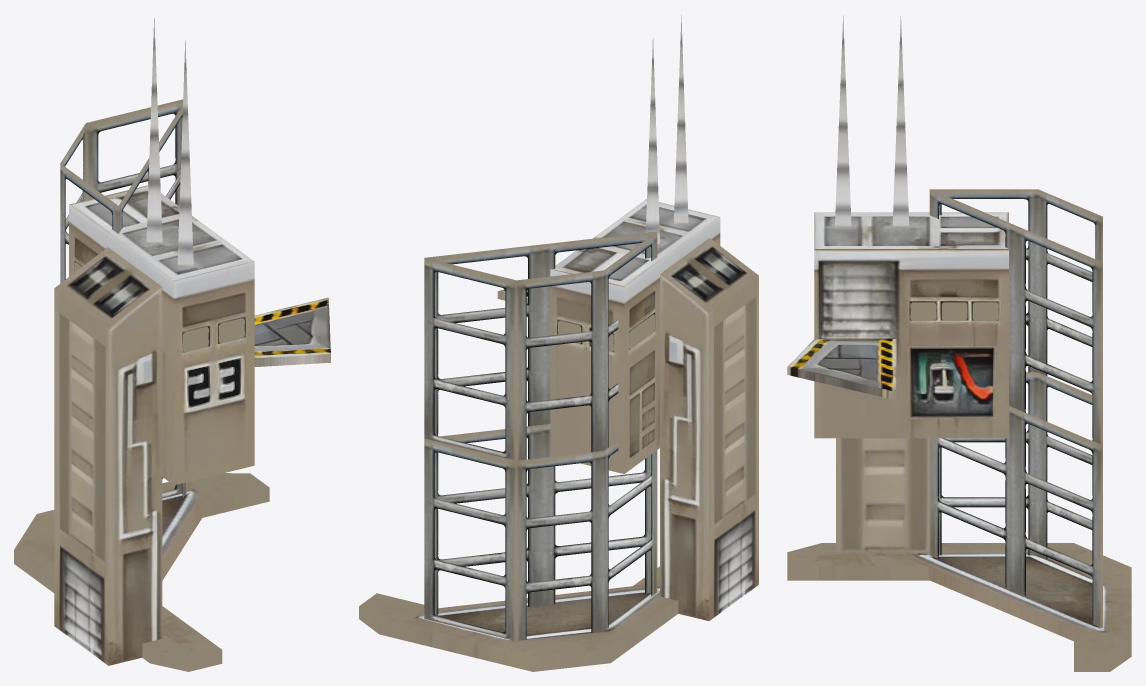
File: gantry_hdtex.glb
3 views of the same model, side by side, from view 1: azimuth 30°, elevation 25°; view 2: azimuth 150°, elevation 25°; view 3: azimuth 270°, elevation 25° (orthographic). The views are drawn at different scales.
Parts seen in each view (by area): view 1: Gantry, LitWin_Gantry; view 2: Gantry, LitWin_Gantry; view 3: Gantry, LitWin_Gantry.
Boxes of the visible parts, left/top/right/bottom form: Gantry: left=14, top=18, right=330, bottom=671; LitWin_Gantry: left=74, top=262, right=244, bottom=351; Gantry: left=359, top=15, right=758, bottom=671; LitWin_Gantry: left=558, top=314, right=654, bottom=351; Gantry: left=787, top=15, right=1131, bottom=671; LitWin_Gantry: left=910, top=302, right=998, bottom=320.
Bounding box in the file's own units: 18.45 × 36.98 × 20.49.
1 material, 1 textured.
